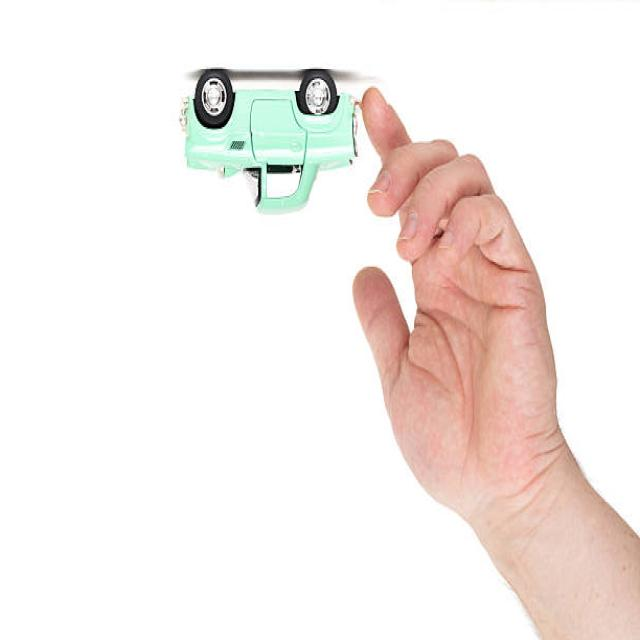Car: (179, 69, 360, 216)
